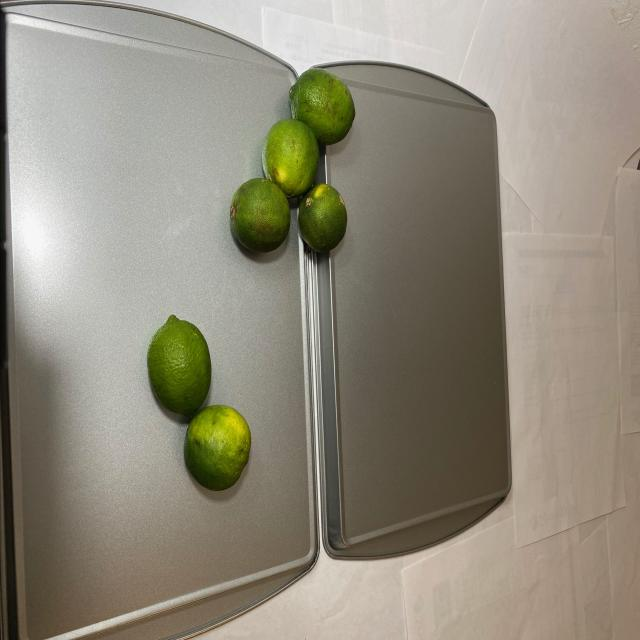lemon: (228, 63, 359, 258), (136, 307, 254, 499)
